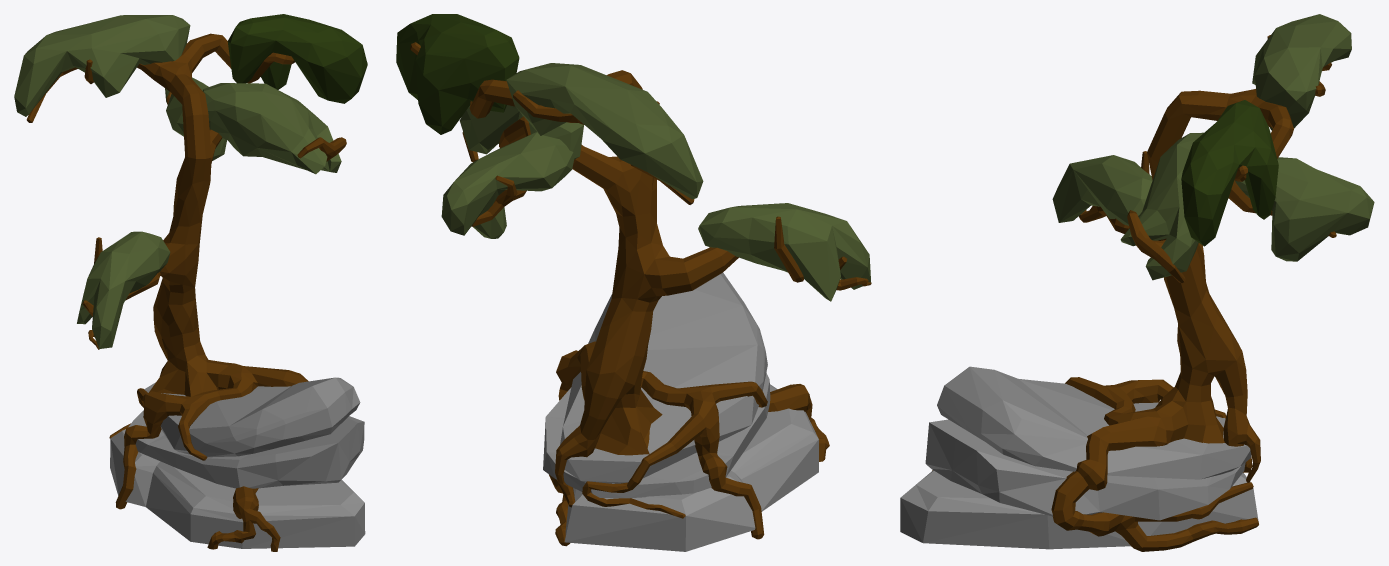
The model's file is Tree_On_Rock.glb.
The picture shows the model from 3 angles, left to right: view 1: azimuth 30°, elevation 25°; view 2: azimuth 150°, elevation 25°; view 3: azimuth 270°, elevation 25°; orthographic projection. The views are drawn at different scales.
Parts seen in each view (by area): view 1: Tree_On_Rock; view 2: Tree_On_Rock; view 3: Tree_On_Rock.
Boxes of the visible parts, bbox=[...] form: Tree_On_Rock: bbox=[14, 14, 367, 551]; Tree_On_Rock: bbox=[396, 14, 871, 551]; Tree_On_Rock: bbox=[900, 14, 1374, 551].
Bounding box in the file's own units: 7.87 × 9.45 × 8.57.
1 material, 1 textured.
